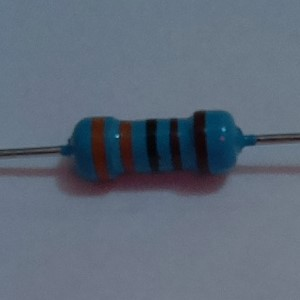black_band: (143, 116, 163, 174)
brown_band: (191, 109, 213, 176), (168, 116, 185, 174)
orange_band: (89, 114, 111, 183), (116, 118, 138, 177)
